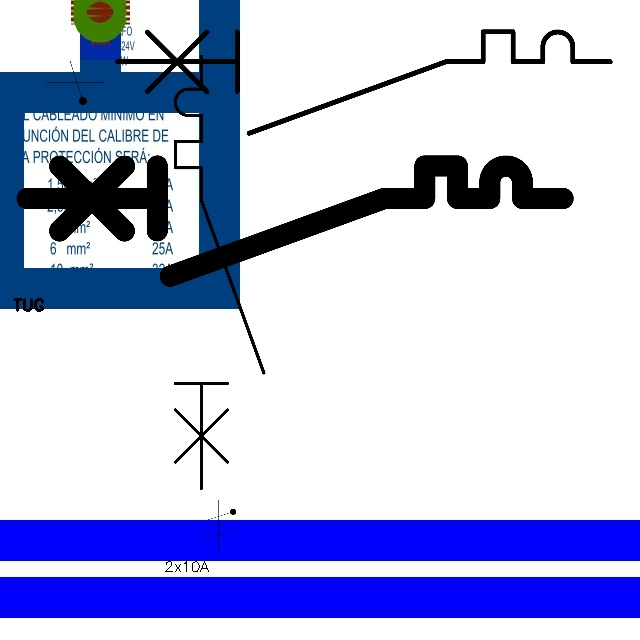interruptor_termomagnetico: (13, 152, 577, 290), (104, 19, 623, 146), (164, 45, 275, 499)
